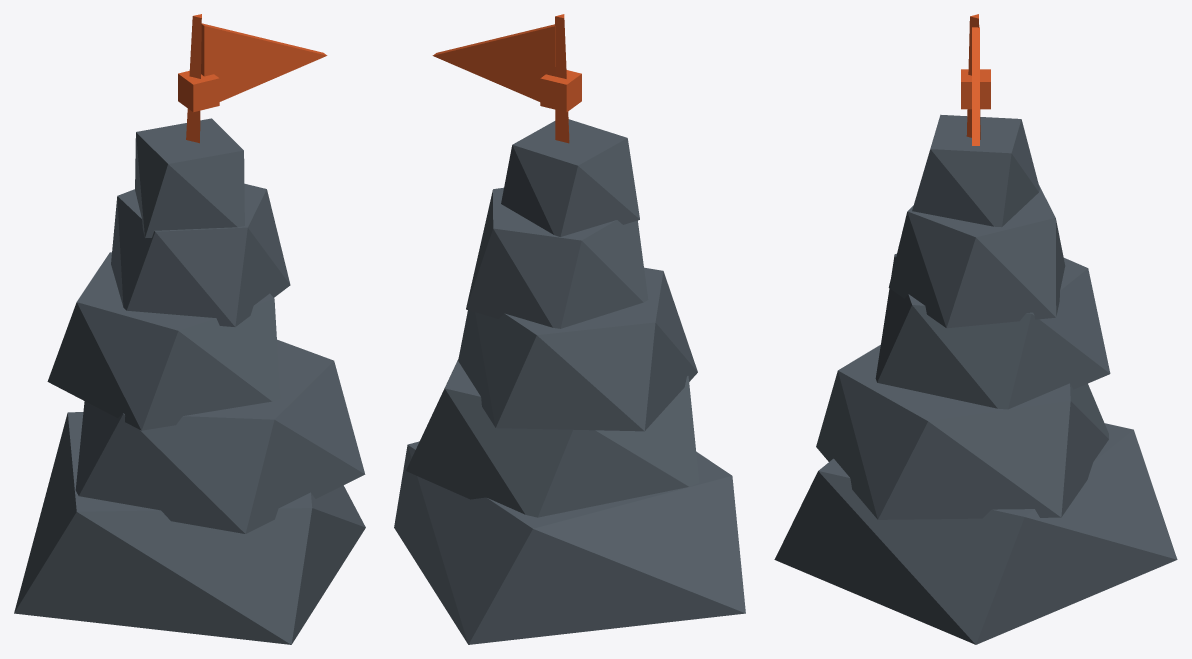
Rendered from FM_Cairn.fbx.
3 views of the same model, side by side, from view 1: azimuth 30°, elevation 25°; view 2: azimuth 150°, elevation 25°; view 3: azimuth 270°, elevation 25° (orthographic).
Visible parts, largest first — view 1: FM_Cairn_Stones, FM_Cairn_Ribbon; view 2: FM_Cairn_Stones, FM_Cairn_Ribbon; view 3: FM_Cairn_Stones, FM_Cairn_Ribbon.
Part boxes in pixels (box(x1,y1,x2,y2)): FM_Cairn_Stones: box(14, 118, 365, 644); FM_Cairn_Ribbon: box(178, 14, 327, 143); FM_Cairn_Stones: box(394, 119, 745, 644); FM_Cairn_Ribbon: box(432, 14, 581, 143); FM_Cairn_Stones: box(774, 114, 1177, 644); FM_Cairn_Ribbon: box(961, 14, 990, 145).
Size of the model in its own units: 4 by 6 by 4.
